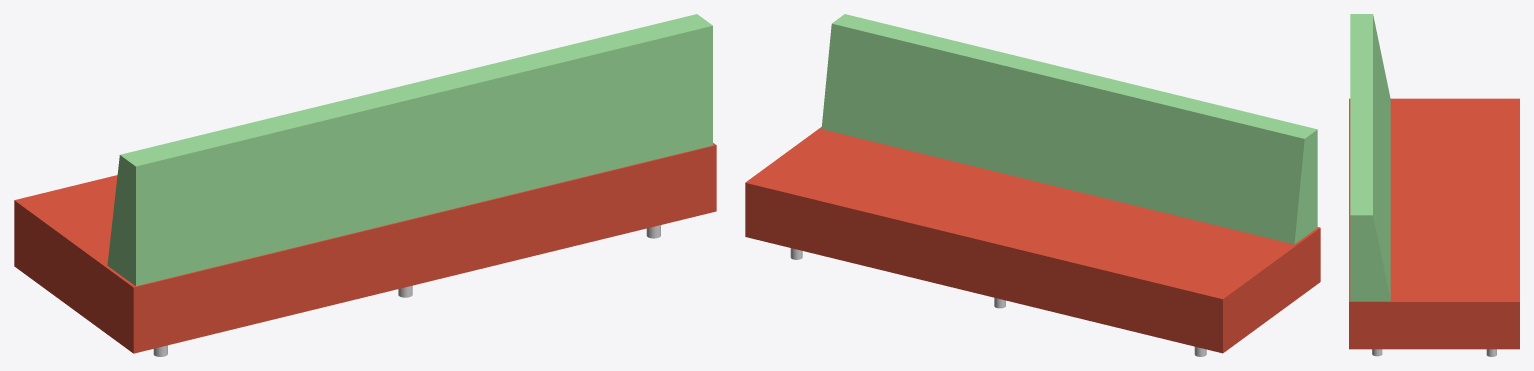
Rendered from sofa_1.glb.
3 views of the same model, side by side, from view 1: azimuth 30°, elevation 25°; view 2: azimuth 150°, elevation 25°; view 3: azimuth 270°, elevation 25° (orthographic). The views are drawn at different scales.
Visible parts, largest first — view 1: sofa_1; view 2: sofa_1; view 3: sofa_1.
Boxes of the visible parts, box(x1,y1,x2,y2) form: sofa_1: box(14, 14, 716, 356); sofa_1: box(745, 14, 1320, 356); sofa_1: box(1349, 14, 1519, 356).
Bounding box in the file's own units: 9.92 × 3.49 × 3.52.
